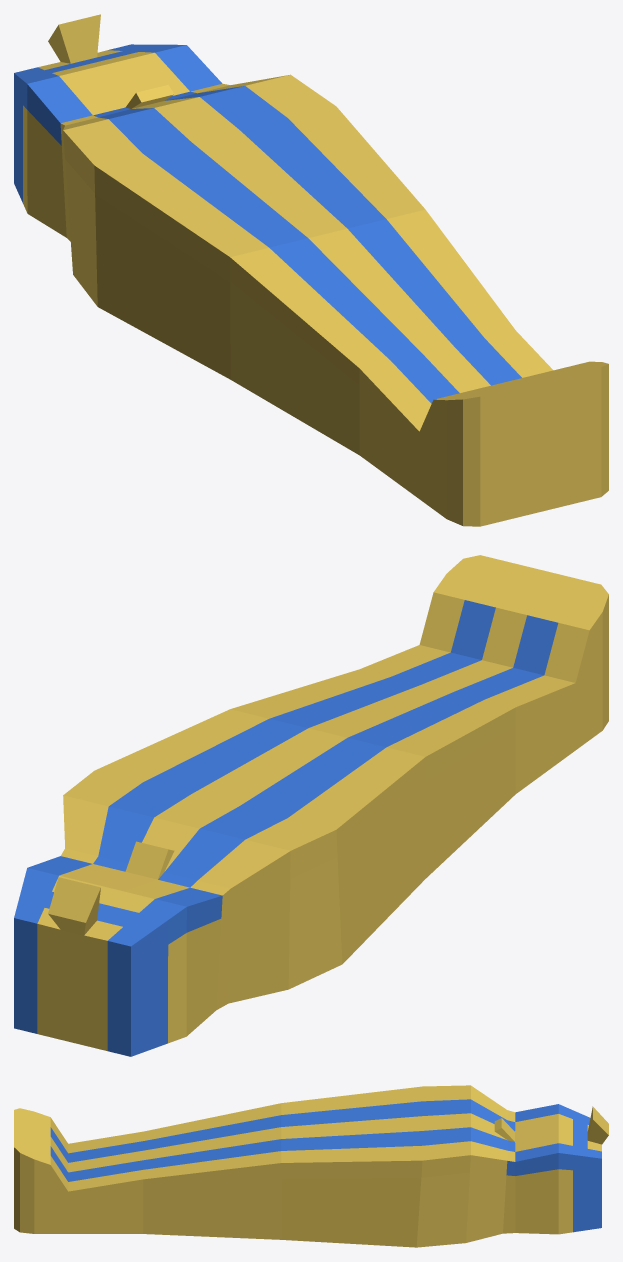
File: sarcophagus-low-poly.fbx
3 views of the same model, one above another, from view 1: azimuth 30°, elevation 25°; view 2: azimuth 150°, elevation 25°; view 3: azimuth 270°, elevation 25° (orthographic). The views are drawn at different scales.
Visible parts, largest first — view 1: Cube; view 2: Cube; view 3: Cube.
Boxes of the visible parts, x1,y1,x2,y2 form: Cube: [14, 14, 608, 526]; Cube: [14, 555, 608, 1056]; Cube: [14, 1085, 608, 1247].
Bounding box in the file's own units: 197 × 119 × 660.
